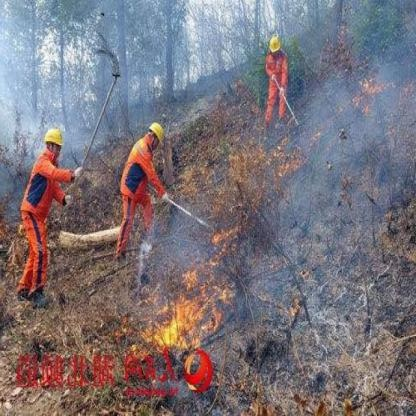vest: (19, 150, 80, 222), (121, 135, 164, 203), (264, 49, 290, 84)
yellow: (44, 122, 68, 148), (150, 120, 166, 141), (269, 34, 281, 54)
